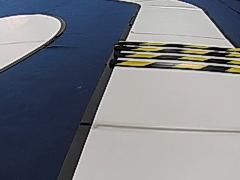bump: (104, 37, 240, 74)
